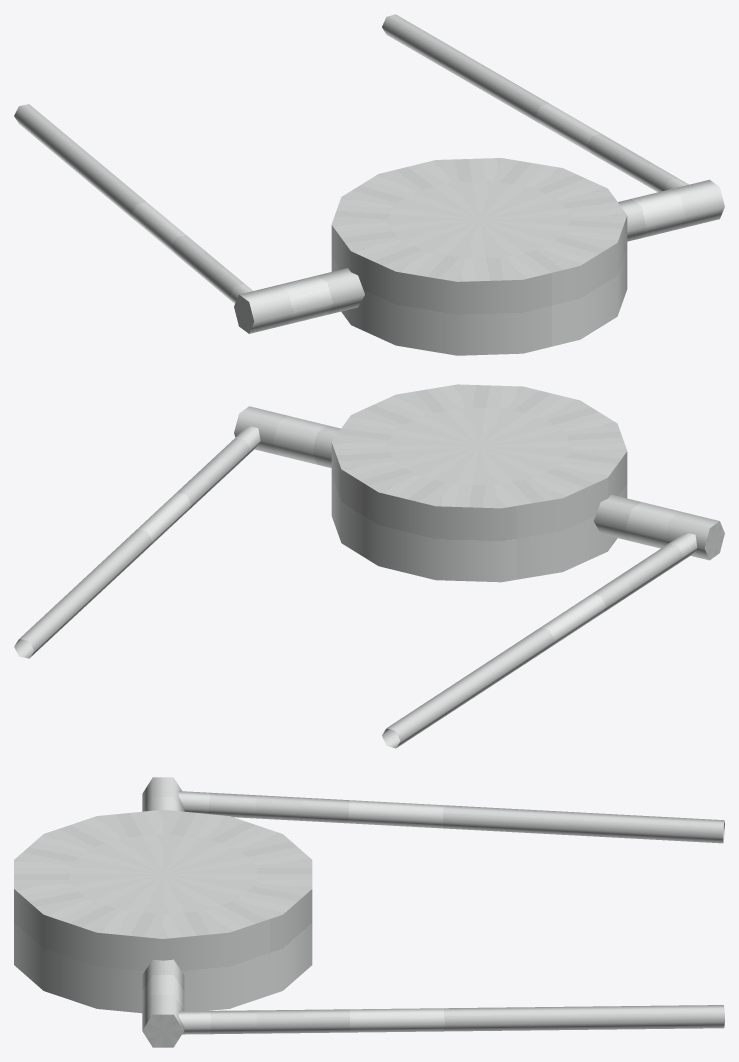
File: nycsignalarm_regular8_c0.obj
3 views of the same model, one above another, from view 1: azimuth 30°, elevation 25°; view 2: azimuth 150°, elevation 25°; view 3: azimuth 270°, elevation 25° (orthographic). The views are drawn at different scales.
Parts seen in each view (by area): view 1: nycsignalarm_regular8_c0; view 2: nycsignalarm_regular8_c0; view 3: nycsignalarm_regular8_c0.
Boxes of the visible parts, x1,y1,x2,y2 form: nycsignalarm_regular8_c0: (14,14,724,355); nycsignalarm_regular8_c0: (14,384,724,748); nycsignalarm_regular8_c0: (14,777,724,1047).
Bounding box in the file's own units: 1.5 × 0.225 × 1.9.
